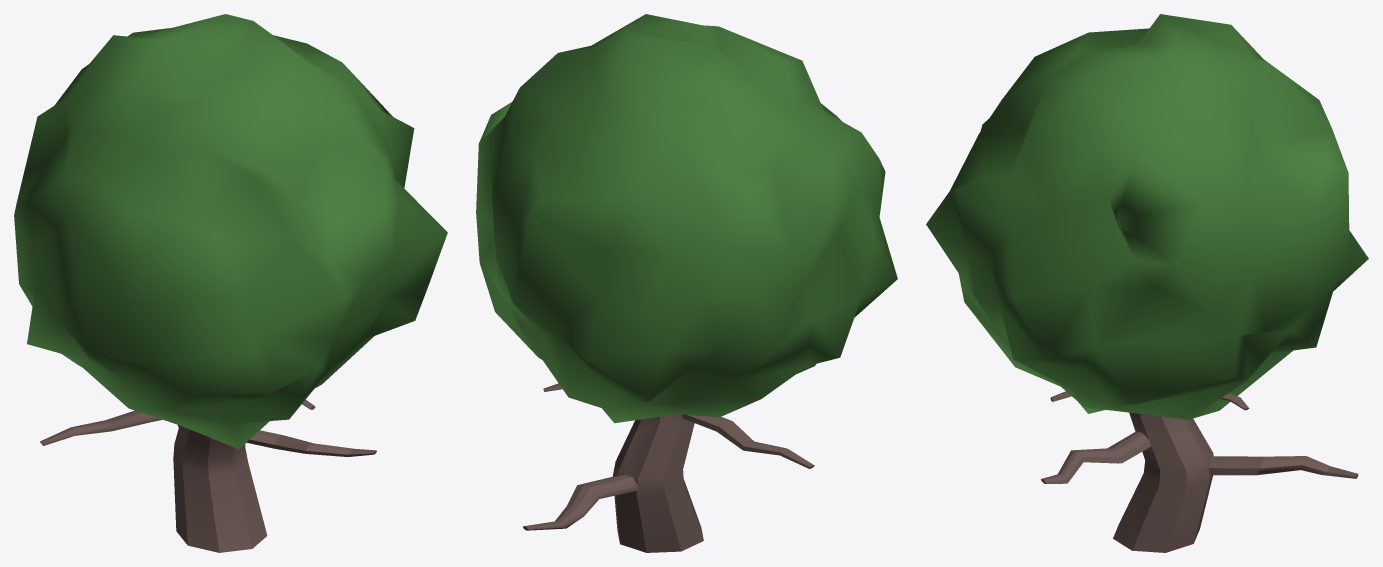
The model's file is decotree5.fbx.
3 renders of one model, left to right at view 1: azimuth 30°, elevation 25°; view 2: azimuth 150°, elevation 25°; view 3: azimuth 270°, elevation 25°, orthographic. The views are drawn at different scales.
Visible parts, largest first — view 1: Leaves.001, Trunk.001; view 2: Leaves.001, Trunk.001; view 3: Leaves.001, Trunk.001.
Boxes of the visible parts, x1,y1,x2,y2 form: Leaves.001: (14,14,447,449); Trunk.001: (40,399,376,552); Leaves.001: (476,14,897,423); Trunk.001: (523,383,814,552); Leaves.001: (926,14,1368,419); Trunk.001: (1041,391,1358,552).
Size of the model in its own units: 0.5703 by 0.7502 by 0.608.
